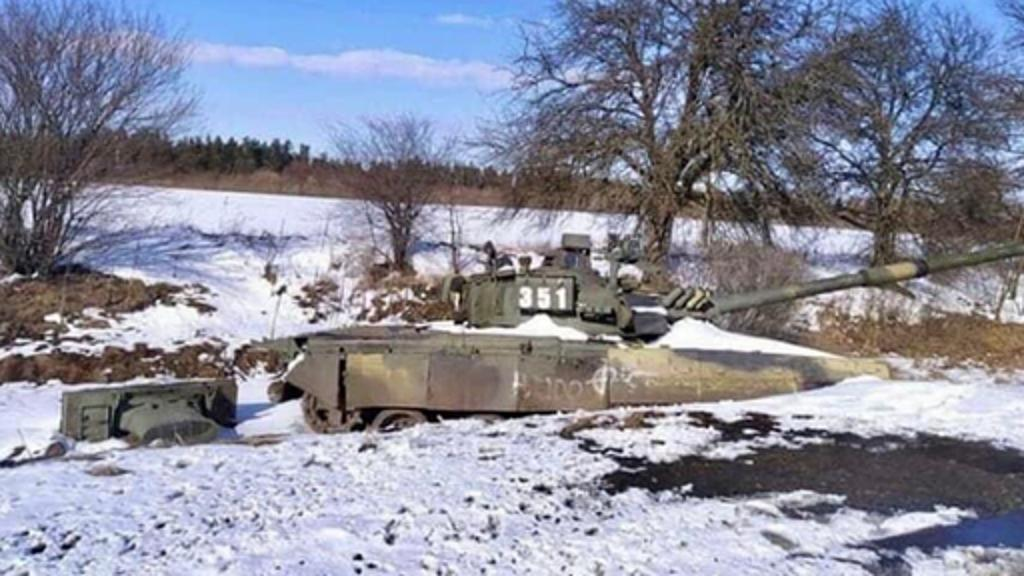TANK: (254, 234, 1022, 436)
